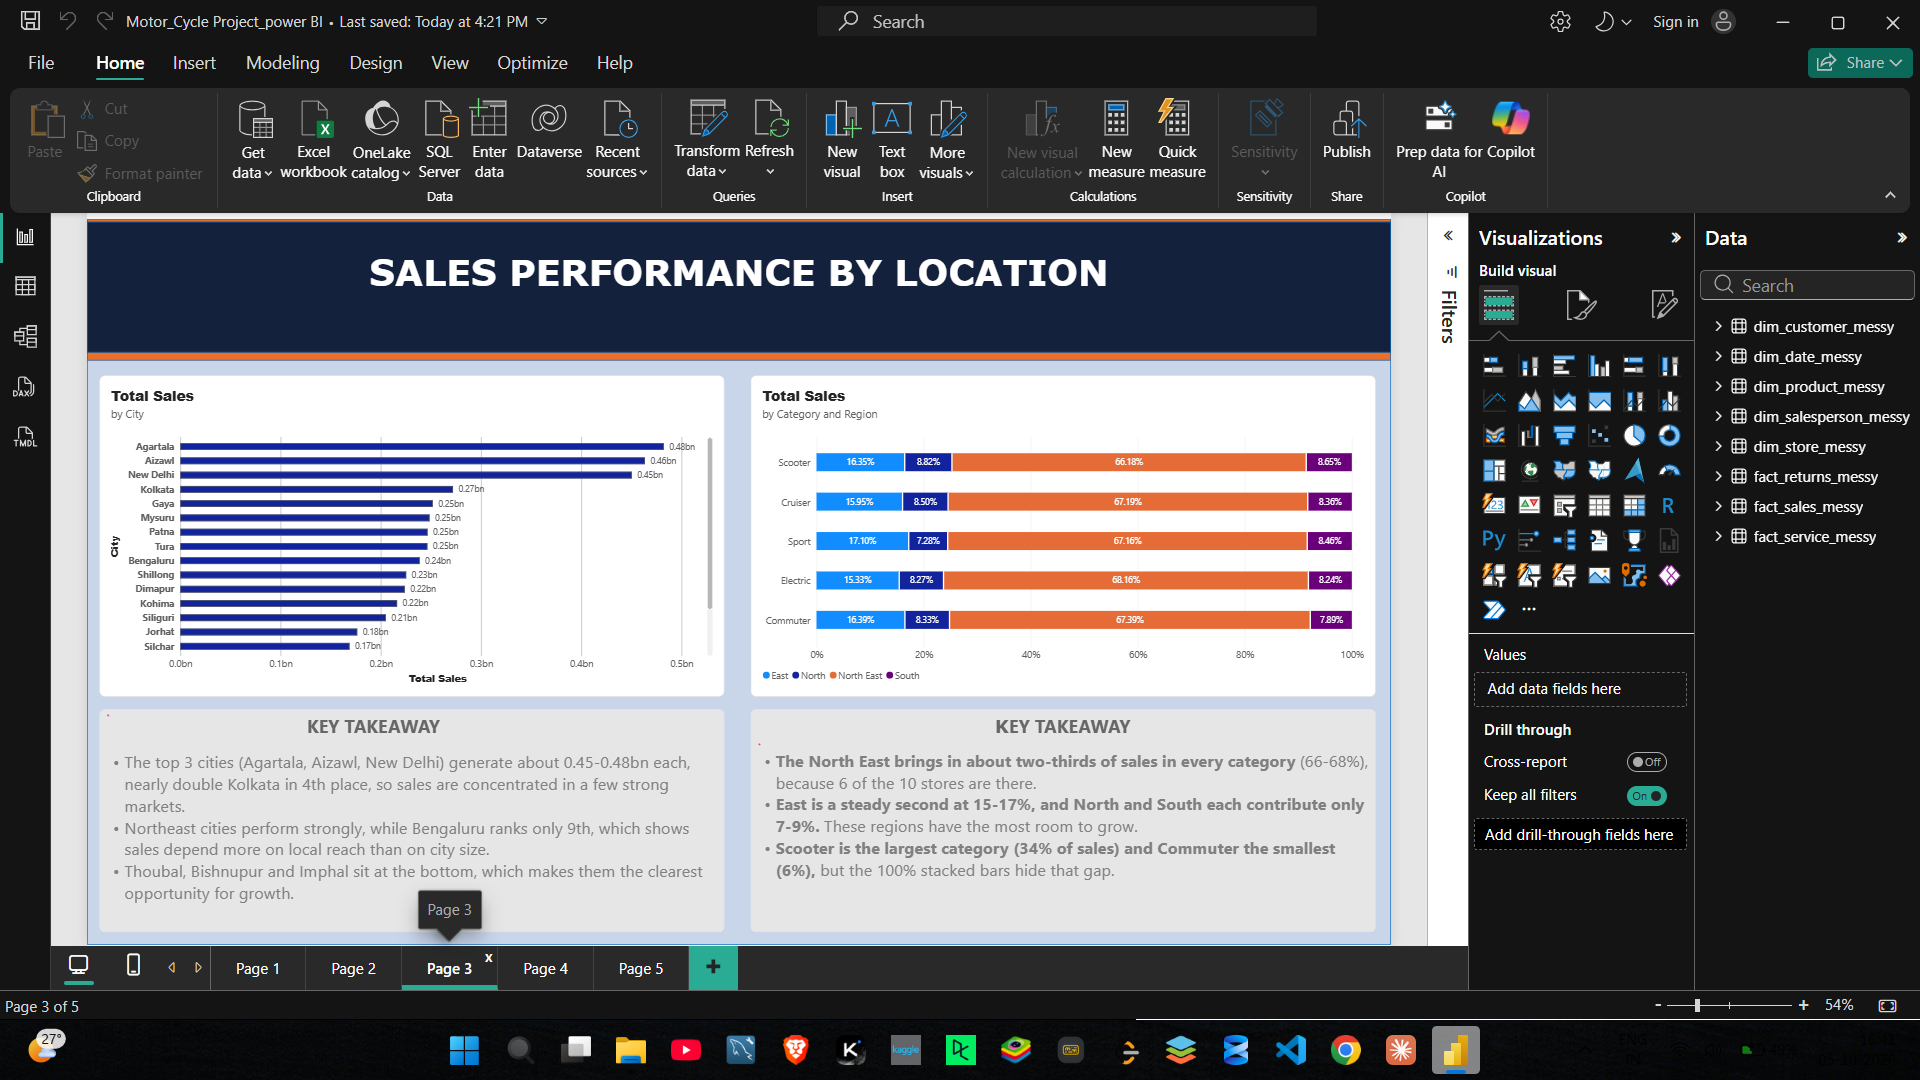

The dashboard page shown, as its layout file describes it:
{"tool":"powerbi","page":{"name":"Page 3","canvas":[1920,1080],"ordinal":2},"visuals":[{"type":"shape","box":[0,192,1920,886],"z":0},{"type":"shape","box":[0,10,1920,208],"z":1000},{"type":"clusteredBarChart","fields":{"Category":["dim_customer_messy.City"],"Y":["fact_sales_messy.Total Sales"]},"box":[18.4,239.3,920,473],"z":2000},{"type":"textbox","box":[18.4,730.7,920.3,327.6],"z":3000},{"type":"hundredPercentStackedBarChart","fields":{"Category":["dim_product_messy.Category"],"Series":["dim_store_messy.Region"],"Y":["fact_sales_messy.Total Sales"]},"box":[977.3,239.3,920.3,473],"z":5000},{"type":"textbox","box":[977.3,730.7,920.3,327.6],"z":6000},{"type":"shape","box":[0,12.5,1920,192.5],"z":7000},{"type":"textbox","box":[0,52.5,1920,140],"z":7500}]}

Visuals, with their boxes on the page's 1920x1080 design canvas (x1, y1, x2, y2). These are canvas units, not pixel positions in the 1920x1080 screenshot, which may show the page scaled, cropped or inside an application window:
shape: detection(0, 192, 1920, 1078)
shape: detection(0, 10, 1920, 218)
clusteredBarChart - dim_customer_messy.City x fact_sales_messy.Total Sales: detection(18, 239, 938, 712)
textbox: detection(18, 731, 939, 1058)
hundredPercentStackedBarChart - dim_product_messy.Category x dim_store_messy.Region: detection(977, 239, 1898, 712)
textbox: detection(977, 731, 1898, 1058)
shape: detection(0, 12, 1920, 205)
textbox: detection(0, 52, 1920, 192)
